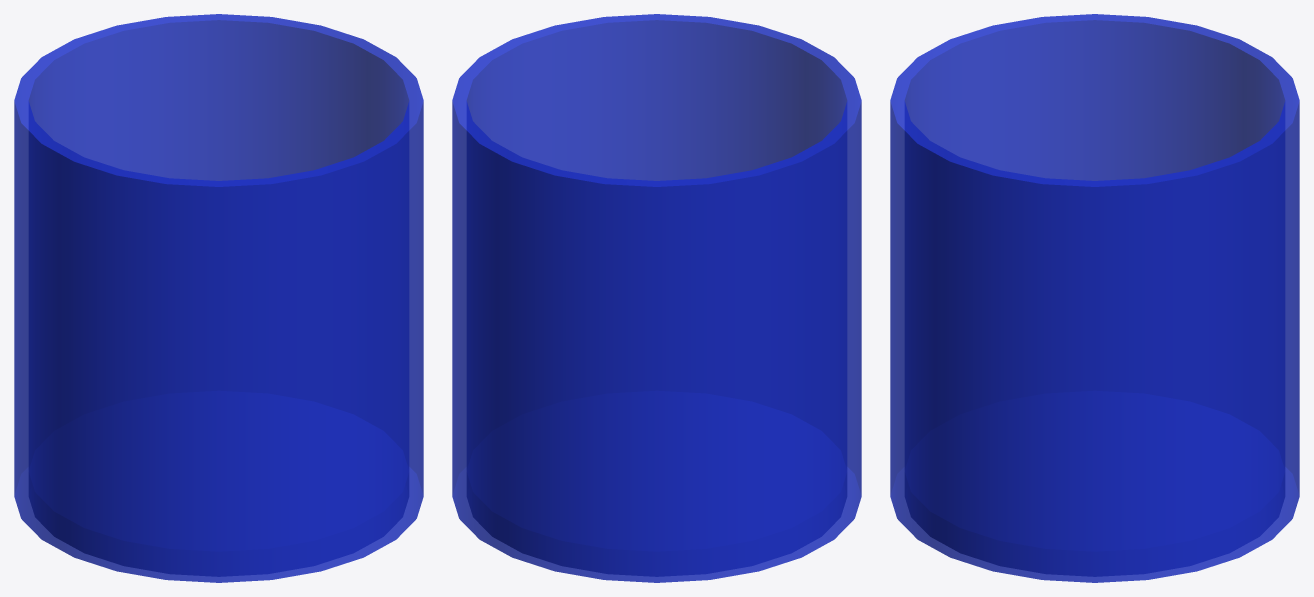
The model's file is drk_blue.dae.
3 renders of one model, left to right at view 1: azimuth 30°, elevation 25°; view 2: azimuth 150°, elevation 25°; view 3: azimuth 270°, elevation 25°, orthographic.
Parts seen in each view (by area): view 1: SketchUp (×3); view 2: SketchUp (×3); view 3: SketchUp (×3).
Part boxes in pixels (<box>): SketchUp (×3): <box>14,14,423,582</box>; SketchUp (×3): <box>452,14,861,582</box>; SketchUp (×3): <box>890,14,1299,582</box>.
Bounding box in the file's own units: 2.95 × 2.95 × 3.15.
Materials: 1 (1 with a texture image).
